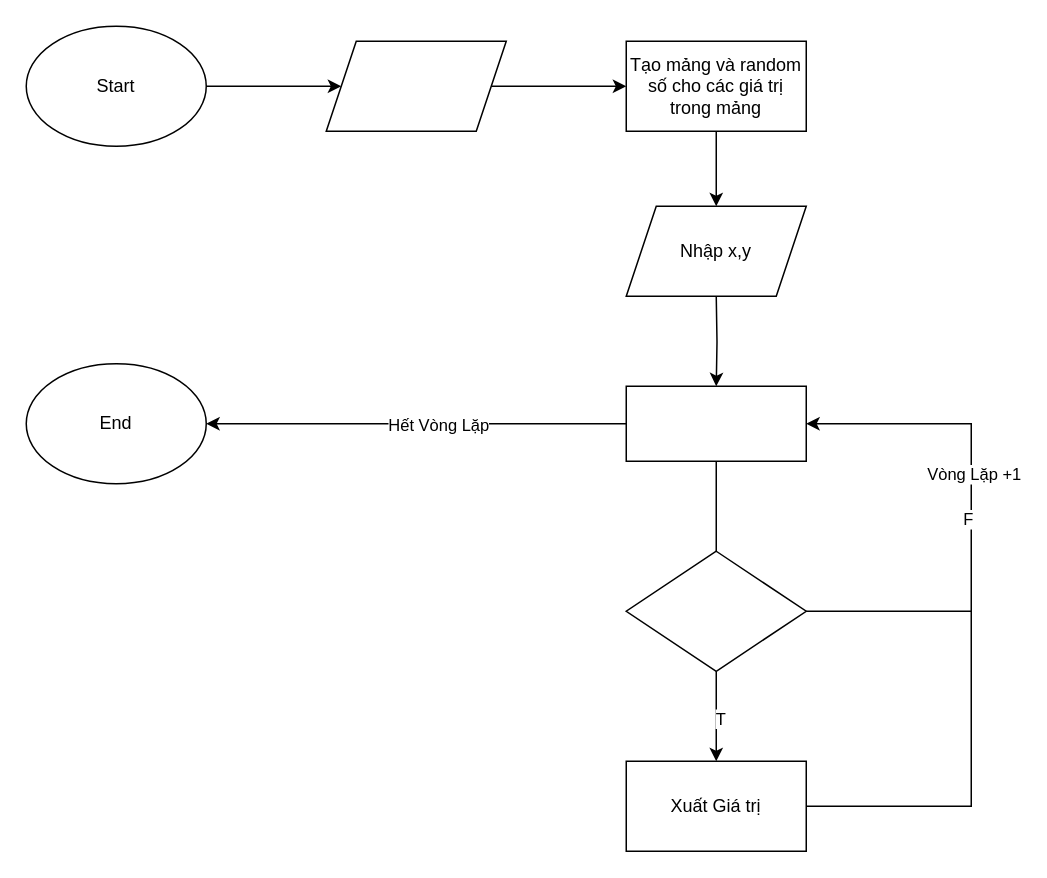
The diagram is 1047 pixels wide and 878 high, and some of its shapes have lost their labels. Here are the shapes that lost their labels. From the top down, the box of each, then its label:
(325, 40, 506, 131): Nhập độ dài mảng (>2)
(625, 385, 806, 461): Chạy vòng lặp Từ Giá Trị Đầu tới giá trị cuối
(625, 550, 806, 671): Giá trị là số Chẵn và Thuộc [x,y]
